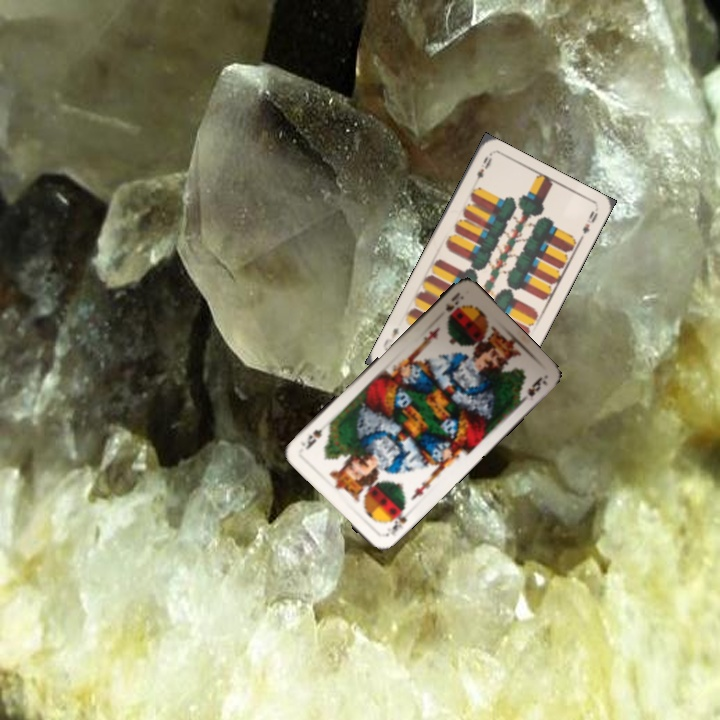E9: (469, 152, 495, 189)
SK: (385, 503, 410, 535), (441, 288, 467, 314)
